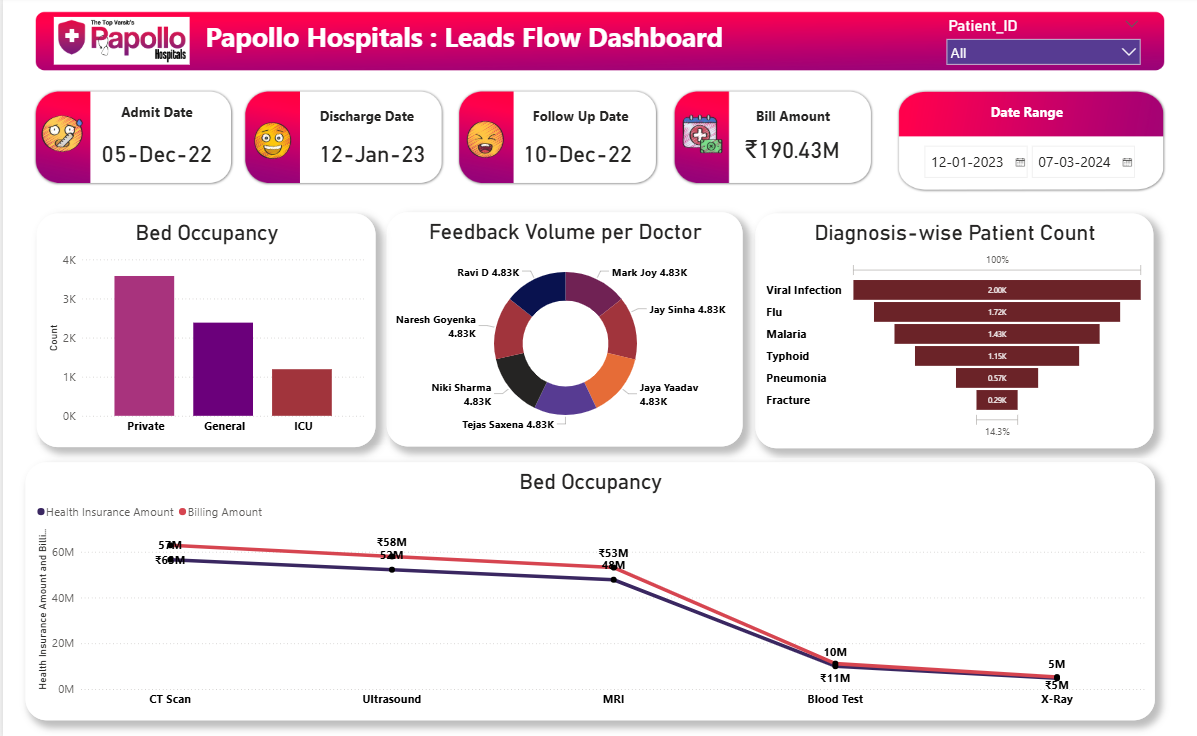

What the dashboard file says about the page in this screenshot:
{"tool":"powerbi","page":{"name":"Dashboard","canvas":[1680,1050],"ordinal":0},"visuals":[{"type":"textbox","box":[280,27.1,755.7,74.3],"z":0},{"type":"image","box":[2636.7,100,623.3,150],"z":1000},{"type":"slicer","fields":{"Values":["Sheet1.Patient_ID"]},"box":[2400,373.3,793.3,420],"z":2000},{"type":"card","fields":{"Values":["Min(Sheet1.Admit_Date)"]},"box":[437.6,198.8,162.9,42.8],"z":3000},{"type":"card","fields":{"Values":["Min(Sheet1.Discharge_Date)"]},"box":[129.8,198.8,172.6,42.8],"z":4000},{"type":"card","fields":{"Values":["Min(Sheet1.Followup Date)"]},"box":[724.3,198.6,167.1,42.9],"z":5000},{"type":"textbox","box":[152.9,145.7,127.1,57.1],"z":6000},{"type":"textbox","box":[437.1,151.4,151.4,37.1],"z":7000},{"type":"textbox","box":[732.9,151.4,158.6,37.1],"z":8000},{"type":"textbox","box":[1035.7,151.4,151.4,37.1],"z":9000},{"type":"card","fields":{"Values":["Sum(Sheet1.Billing Amount)"]},"box":[1031.4,194.3,158.6,42.9],"z":10000},{"type":"image","box":[50,157.1,68.6,74.3],"z":11000},{"type":"image","box":[348.6,172.9,62.9,62.9],"z":12000},{"type":"image","box":[640,171.4,77.1,62.9],"z":13000},{"type":"image","box":[951.4,158.6,65.7,71.4],"z":14000},{"type":"columnChart","title":"Bed Occupancy","fields":{"Category":["Sheet1.Bed_Occupancy"],"Y":["CountNonNull(Sheet1.Bed_Occupancy)"]},"box":[47.1,305.7,477.1,328.6],"z":15000},{"type":"donutChart","title":"Feedback Volume per Doctor","fields":{"Category":["Sheet1.Doctor"],"Y":["Sum(Sheet1.Feedback)"]},"box":[540.2,305.2,501,329.5],"z":16000},{"type":"funnel","title":"Diagnosis-wise Patient Count","fields":{"Category":["Sheet1.Diagnosis"],"Y":["CountNonNull(Sheet1.Diagnosis)"]},"box":[1060,305.7,560,330],"z":17000},{"type":"image","box":[30,24.3,274.3,77.1],"z":18000},{"type":"lineChart","title":"Bed Occupancy","fields":{"Y":["Sum(Sheet1.Health Insurance Amount)","Sum(Sheet1.Billing Amount)"],"Category":["Sheet1.Test"]},"box":[31.1,656.3,1589.5,363.3],"z":19000},{"type":"slicer","fields":{"Values":["Sheet1.Admit_Date"]},"box":[1284.3,201.2,360.6,68.9],"z":20000},{"type":"slicer","fields":{"Values":["Sheet1.Patient_ID"]},"box":[1317.1,24.3,292.9,82.9],"z":21000},{"type":"textbox","box":[1365.7,145.7,151.4,37.1],"z":22000}]}

Visuals, with their boxes in screenshot pixels (x1, y1, x2, y2), scaled from the page's 1680x1050 canvas onto the 1197x736 screenshot:
textbox: {"x1": 200, "y1": 19, "x2": 738, "y2": 71}
card - Min(Sheet1.Admit_Date): {"x1": 312, "y1": 139, "x2": 428, "y2": 169}
card - Min(Sheet1.Discharge_Date): {"x1": 92, "y1": 139, "x2": 215, "y2": 169}
card - Min(Sheet1.Followup Date): {"x1": 516, "y1": 139, "x2": 635, "y2": 169}
textbox: {"x1": 109, "y1": 102, "x2": 200, "y2": 142}
textbox: {"x1": 311, "y1": 106, "x2": 419, "y2": 132}
textbox: {"x1": 522, "y1": 106, "x2": 635, "y2": 132}
textbox: {"x1": 738, "y1": 106, "x2": 846, "y2": 132}
card - Sum(Sheet1.Billing Amount): {"x1": 735, "y1": 136, "x2": 848, "y2": 166}
image: {"x1": 36, "y1": 110, "x2": 85, "y2": 162}
image: {"x1": 248, "y1": 121, "x2": 293, "y2": 165}
image: {"x1": 456, "y1": 120, "x2": 511, "y2": 164}
image: {"x1": 678, "y1": 111, "x2": 725, "y2": 161}
"Bed Occupancy" columnChart: {"x1": 34, "y1": 214, "x2": 373, "y2": 445}
"Feedback Volume per Doctor" donutChart: {"x1": 385, "y1": 214, "x2": 742, "y2": 445}
"Diagnosis-wise Patient Count" funnel: {"x1": 755, "y1": 214, "x2": 1154, "y2": 446}
image: {"x1": 21, "y1": 17, "x2": 217, "y2": 71}
"Bed Occupancy" lineChart: {"x1": 22, "y1": 460, "x2": 1155, "y2": 715}
slicer - Sheet1.Admit_Date: {"x1": 915, "y1": 141, "x2": 1172, "y2": 189}
slicer - Sheet1.Patient_ID: {"x1": 938, "y1": 17, "x2": 1147, "y2": 75}
textbox: {"x1": 973, "y1": 102, "x2": 1081, "y2": 128}
